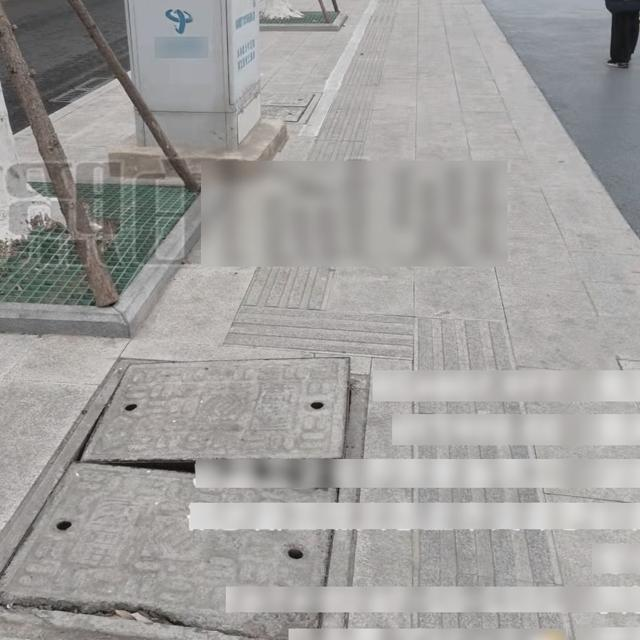uncovered: (0, 351, 380, 640)
